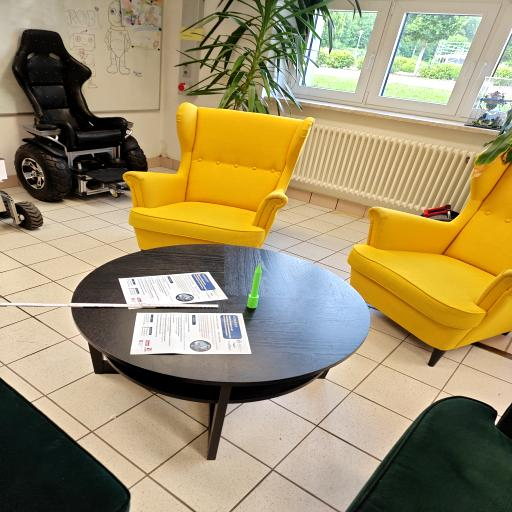Probe-Detection: (247, 264, 262, 308)
